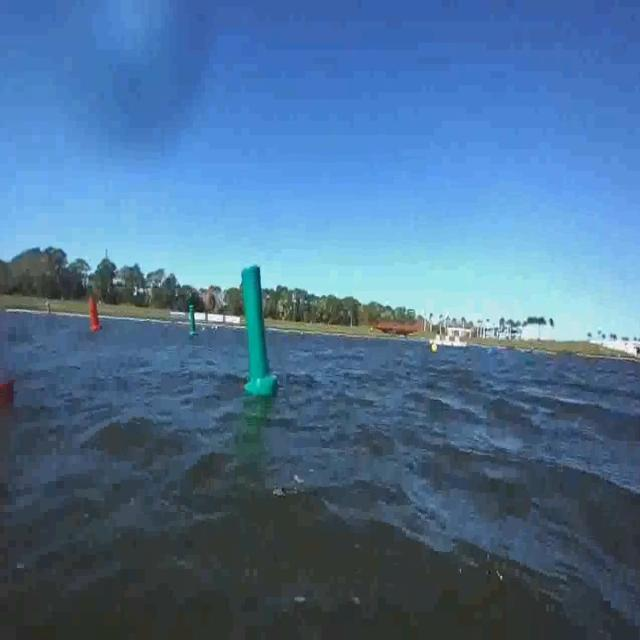green-column-buoy: (237, 261, 276, 399), (186, 302, 198, 337)
red-column-buoy: (89, 296, 103, 332)
yellow-buoy: (430, 342, 438, 355)
